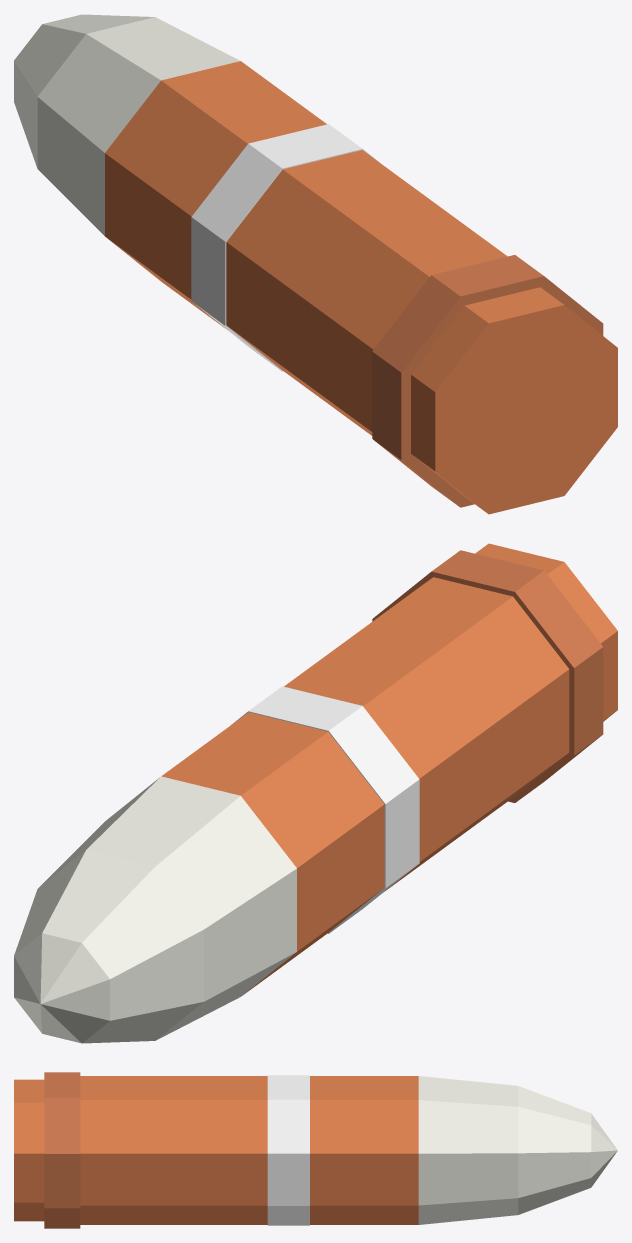
File: ce_ammo_artillery_inc_a.obj
3 renders of one model, top to bottom at view 1: azimuth 30°, elevation 25°; view 2: azimuth 150°, elevation 25°; view 3: azimuth 270°, elevation 25°, orthographic. The views are drawn at different scales.
Visible parts, largest first — view 1: ce_ammo_artillery_inc_a_2, ce_ammo_artillery_inc_a_0, ce_ammo_artillery_inc_a_4, ce_ammo_artillery_inc_a_5, ce_ammo_artillery_inc_a_1, ce_ammo_artillery_inc_a_3, ce_ammo_artillery_inc_a_6; view 2: ce_ammo_artillery_inc_a_2, ce_ammo_artillery_inc_a_5, ce_ammo_artillery_inc_a_4, ce_ammo_artillery_inc_a_6, ce_ammo_artillery_inc_a_1, ce_ammo_artillery_inc_a_3, ce_ammo_artillery_inc_a_7, ce_ammo_artillery_inc_a_0; view 3: ce_ammo_artillery_inc_a_2, ce_ammo_artillery_inc_a_4, ce_ammo_artillery_inc_a_5, ce_ammo_artillery_inc_a_6, ce_ammo_artillery_inc_a_3, ce_ammo_artillery_inc_a_1, ce_ammo_artillery_inc_a_0, ce_ammo_artillery_inc_a_7.
Part boxes in pixels (x1,y1,x2,y2): ce_ammo_artillery_inc_a_2: (226,150,507,435); ce_ammo_artillery_inc_a_0: (411,287,617,514); ce_ammo_artillery_inc_a_4: (105,61,326,328); ce_ammo_artillery_inc_a_5: (37,17,239,235); ce_ammo_artillery_inc_a_1: (372,255,603,507); ce_ammo_artillery_inc_a_3: (191,124,380,371); ce_ammo_artillery_inc_a_6: (14,14,154,168); ce_ammo_artillery_inc_a_2: (284,577,569,890); ce_ammo_artillery_inc_a_5: (39,776,296,1040); ce_ammo_artillery_inc_a_4: (161,712,384,994); ce_ammo_artillery_inc_a_6: (14,850,203,1043); ce_ammo_artillery_inc_a_1: (372,550,603,802); ce_ammo_artillery_inc_a_3: (231,686,419,933); ce_ammo_artillery_inc_a_7: (14,933,109,1043); ce_ammo_artillery_inc_a_0: (475,543,617,721); ce_ammo_artillery_inc_a_2: (80,1076,267,1224); ce_ammo_artillery_inc_a_4: (310,1076,418,1224); ce_ammo_artillery_inc_a_5: (418,1076,518,1224); ce_ammo_artillery_inc_a_6: (518,1086,591,1214); ce_ammo_artillery_inc_a_3: (267,1075,309,1225); ce_ammo_artillery_inc_a_1: (44,1072,80,1228); ce_ammo_artillery_inc_a_0: (14,1079,44,1221); ce_ammo_artillery_inc_a_7: (591,1113,617,1187).
Bounding box in the file's own units: 0.2134 × 0.2134 × 0.89.
